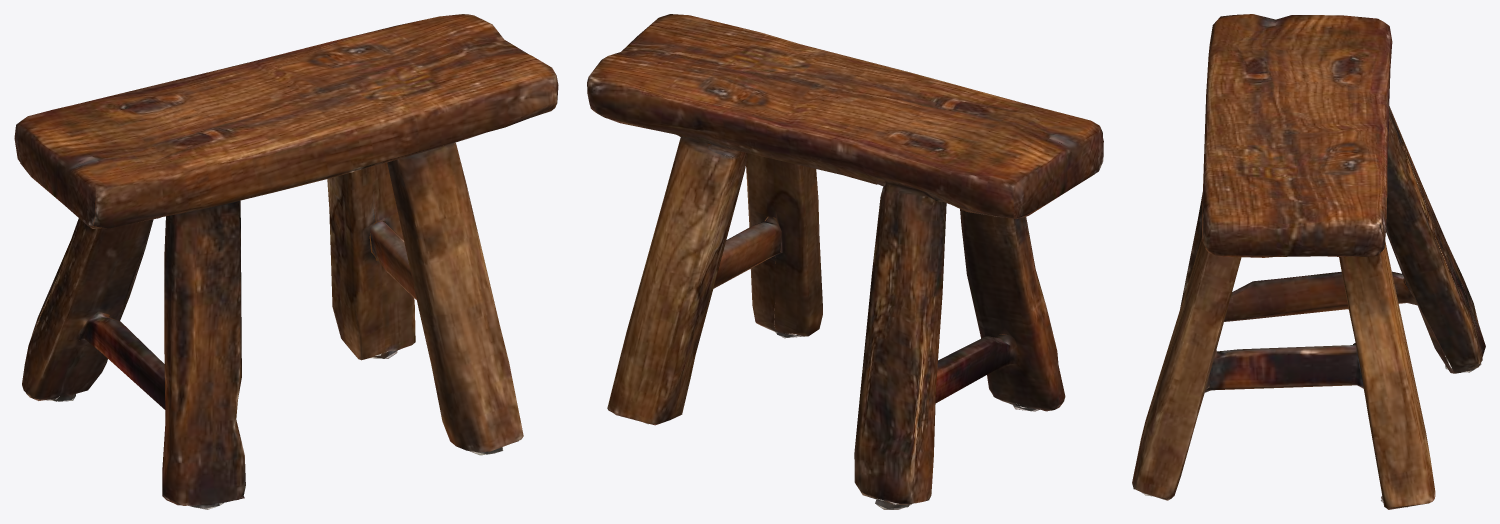
Rendered from wooden_stool_02.glb.
The picture shows the model from 3 angles, left to right: view 1: azimuth 30°, elevation 25°; view 2: azimuth 150°, elevation 25°; view 3: azimuth 270°, elevation 25°; orthographic projection. The views are drawn at different scales.
Parts seen in each view (by area): view 1: wooden_stool_02; view 2: wooden_stool_02; view 3: wooden_stool_02.
Boxes of the visible parts, x1,y1,x2,y2 form: wooden_stool_02: (14, 14, 558, 509); wooden_stool_02: (587, 14, 1103, 509); wooden_stool_02: (1132, 14, 1485, 509).
Bounding box in the file's own units: 0.2651 × 0.1817 × 0.1837.
1 material, 1 textured.
